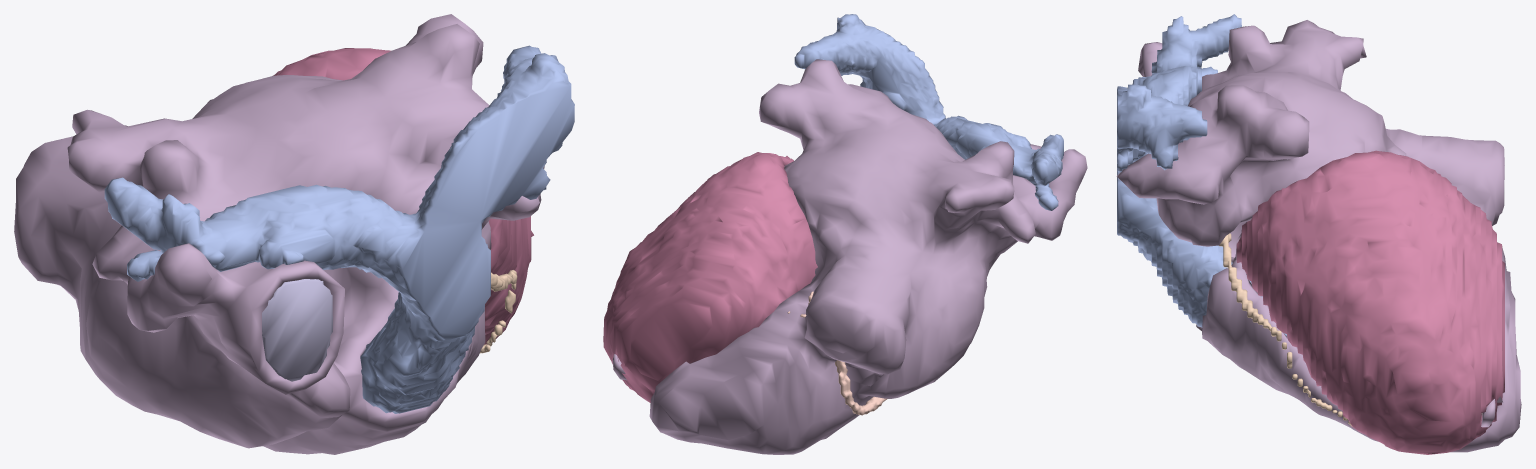
3 views of the same model, side by side, from view 1: azimuth 30°, elevation 25°; view 2: azimuth 150°, elevation 25°; view 3: azimuth 270°, elevation 25° (orthographic). The views are drawn at different scales.
Visible parts, largest first — view 1: heart-wall, pulmonary-artery, right-atrium, myocardium, left-coronary-artery; view 2: heart-wall, myocardium, pulmonary-artery, right-coronary-artery; view 3: myocardium, heart-wall, pulmonary-artery, left-coronary-artery.
Boxes of the visible parts, left/top/right/bottom form: heart-wall: left=14, top=14, right=544, bottom=454; pulmonary-artery: left=104, top=45, right=574, bottom=413; right-atrium: left=262, top=279, right=332, bottom=381; myocardium: left=273, top=48, right=533, bottom=344; left-coronary-artery: left=480, top=270, right=517, bottom=353; heart-wall: left=612, top=59, right=1087, bottom=454; myocardium: left=603, top=152, right=817, bottom=402; pulmonary-artery: left=794, top=14, right=1063, bottom=210; right-coronary-artery: left=787, top=291, right=887, bottom=415; myocardium: left=1236, top=150, right=1504, bottom=454; heart-wall: left=1116, top=20, right=1521, bottom=452; pulmonary-artery: left=1117, top=14, right=1241, bottom=327; left-coronary-artery: left=1219, top=233, right=1352, bottom=426.
Bounding box in the file's own units: 137 × 118 × 122.
